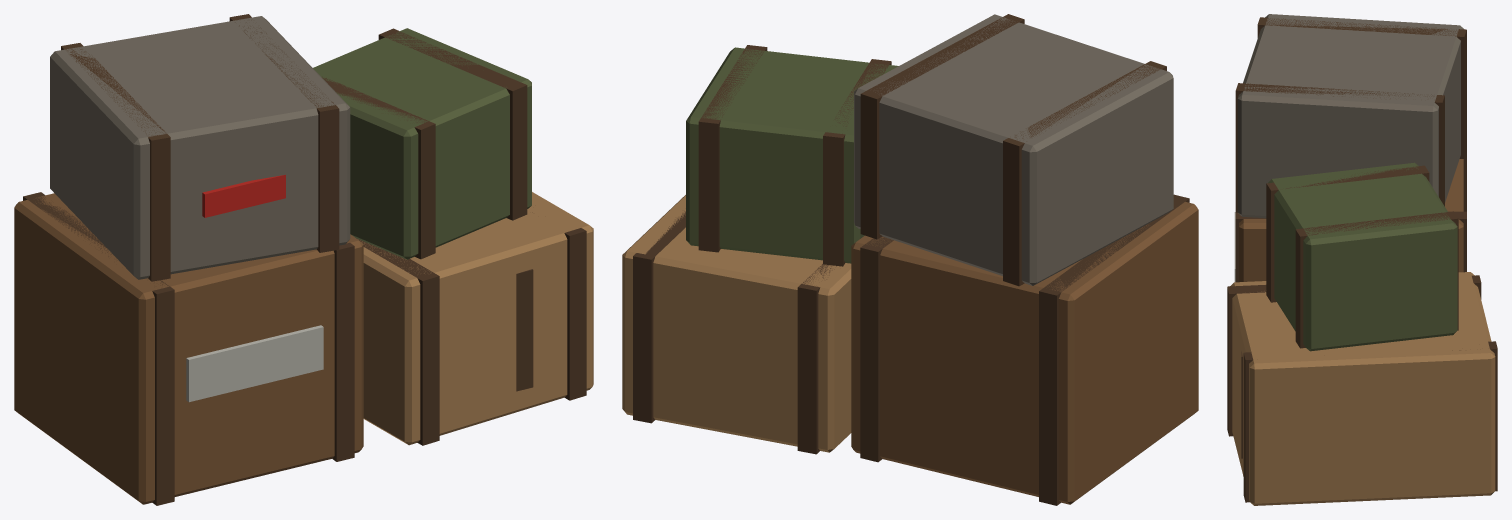
Rendered from lmk_crate_stack.fbx.
The picture shows the model from 3 angles, left to right: view 1: azimuth 30°, elevation 25°; view 2: azimuth 150°, elevation 25°; view 3: azimuth 270°, elevation 25°; orthographic projection. The views are drawn at different scales.
Visible parts, largest first — view 1: lmk_crate_stack; view 2: lmk_crate_stack; view 3: lmk_crate_stack.
Part boxes in pixels (x1,y1,x2,y2): lmk_crate_stack: (14,14,593,505); lmk_crate_stack: (622,14,1198,505); lmk_crate_stack: (1227,14,1497,505).
Size of the model in its own units: 2.05 by 1.5 by 1.21.
